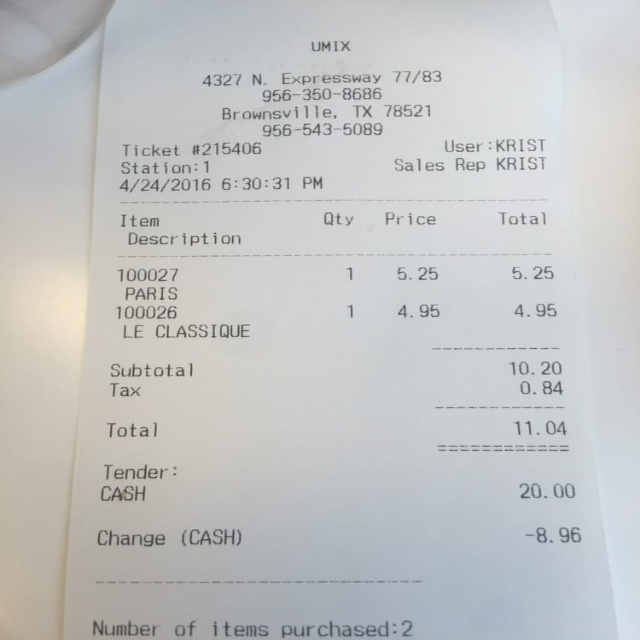invoice_table: (116, 267, 557, 337)
invoice_title: (203, 73, 445, 137)
invoice_total: (105, 421, 567, 438)
